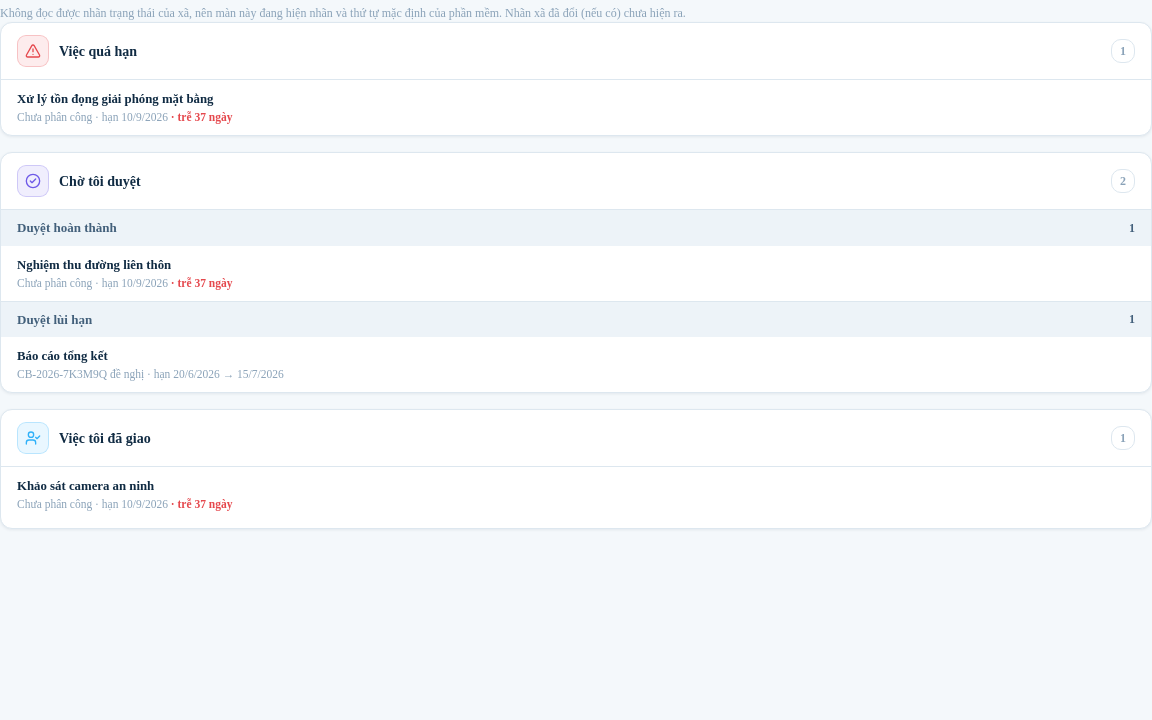
Test: a row opens the register's drawer HERE (owner 09/10/2026) › closing the drawer re-reads the columns and their counts
Click the button that starts with "Xử lý tồn đọng giải phóng mặt bằng".
click(115, 99)  # box [1,80,1151,135]
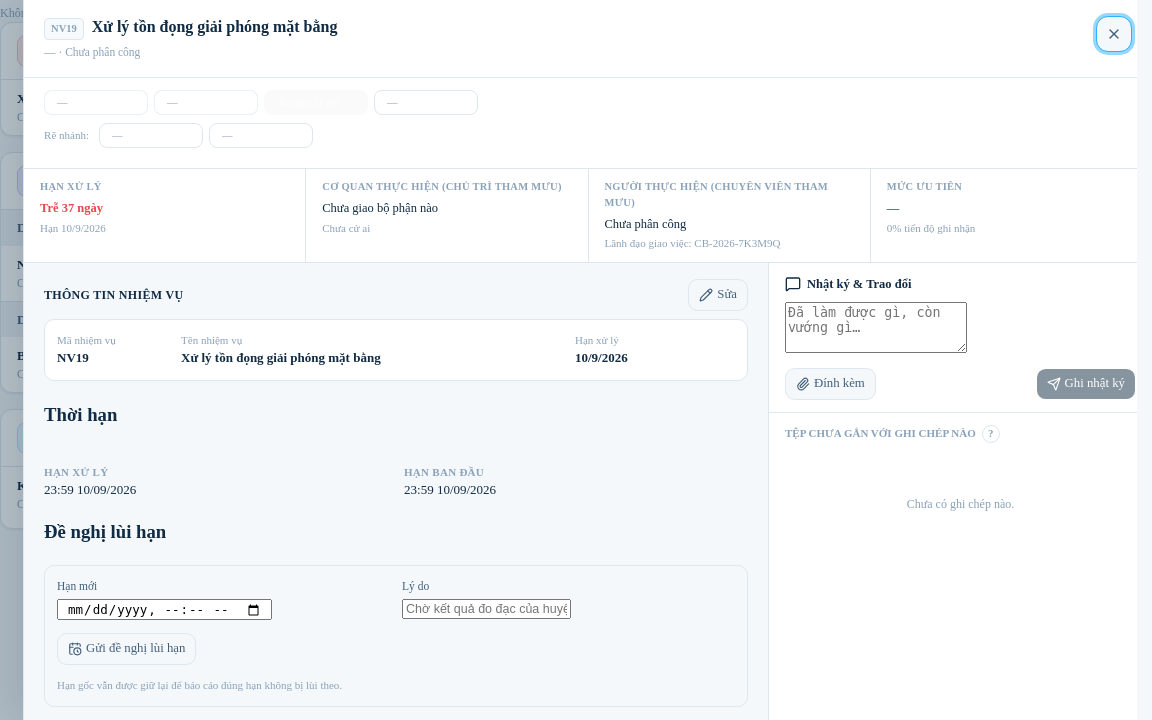
Click the button named "Đóng".
click(1114, 34)  # box [1096,16,1132,52]
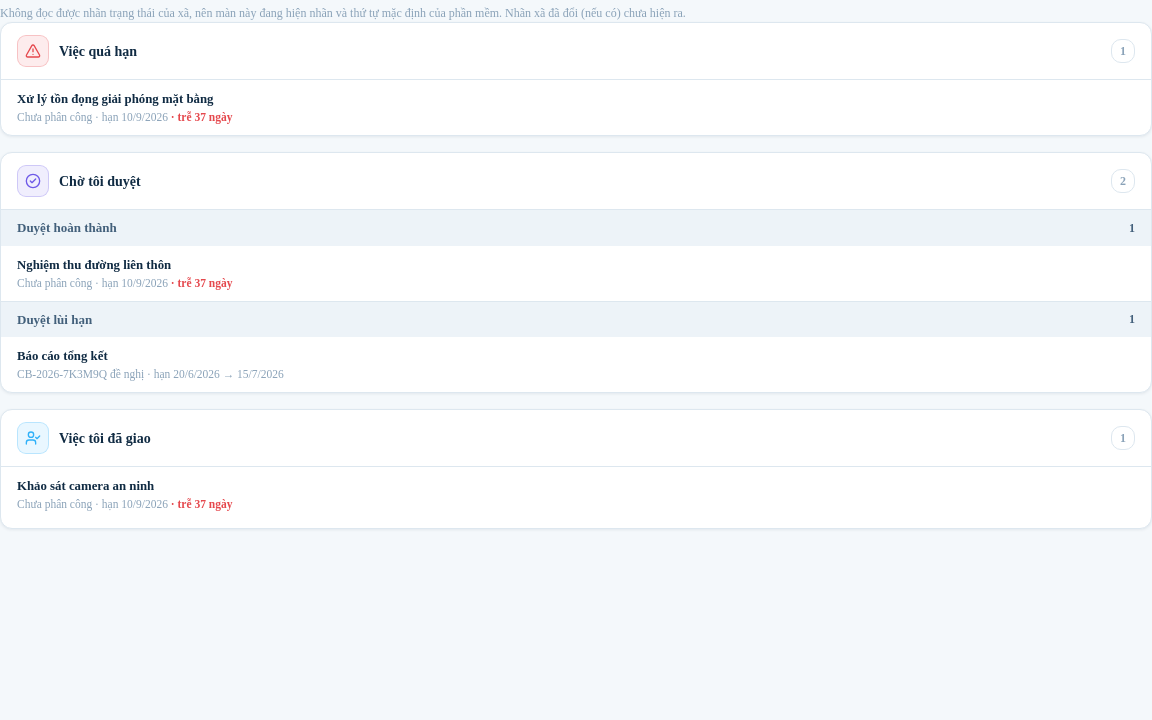
Expected: the button that starts with "Xử lý tồn đọng giải phóng mặt bằng" is shown, [1,80,1151,135]
Expected: the dialog is gone
